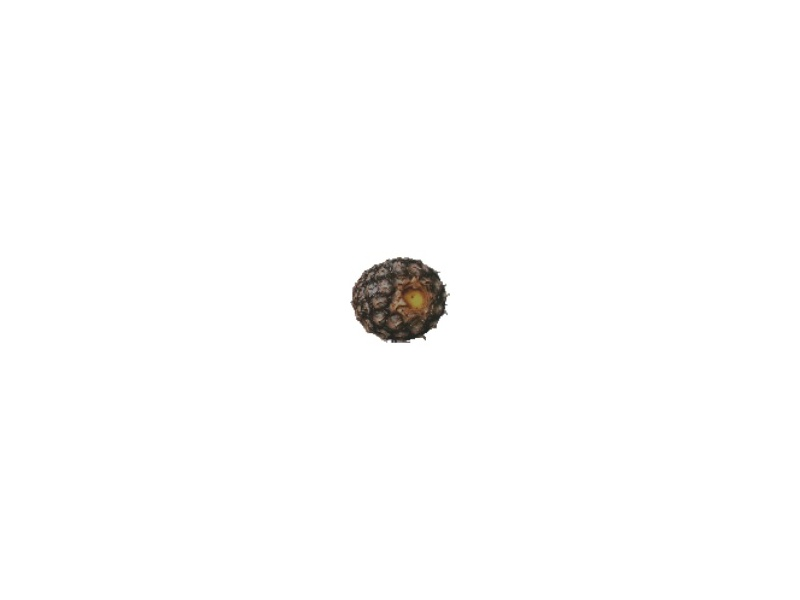abacaxi: (348, 254, 453, 345)
